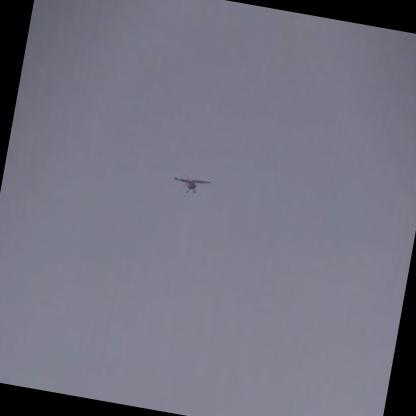plane: (172, 173, 212, 197)
